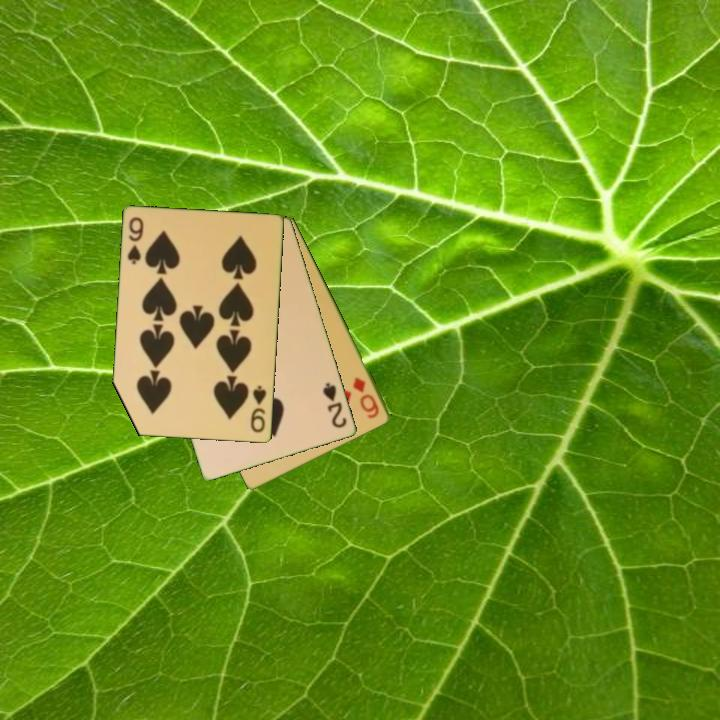2s: (320, 379, 350, 431)
6d: (350, 374, 382, 421)
9s: (124, 214, 147, 267), (247, 382, 269, 436)
